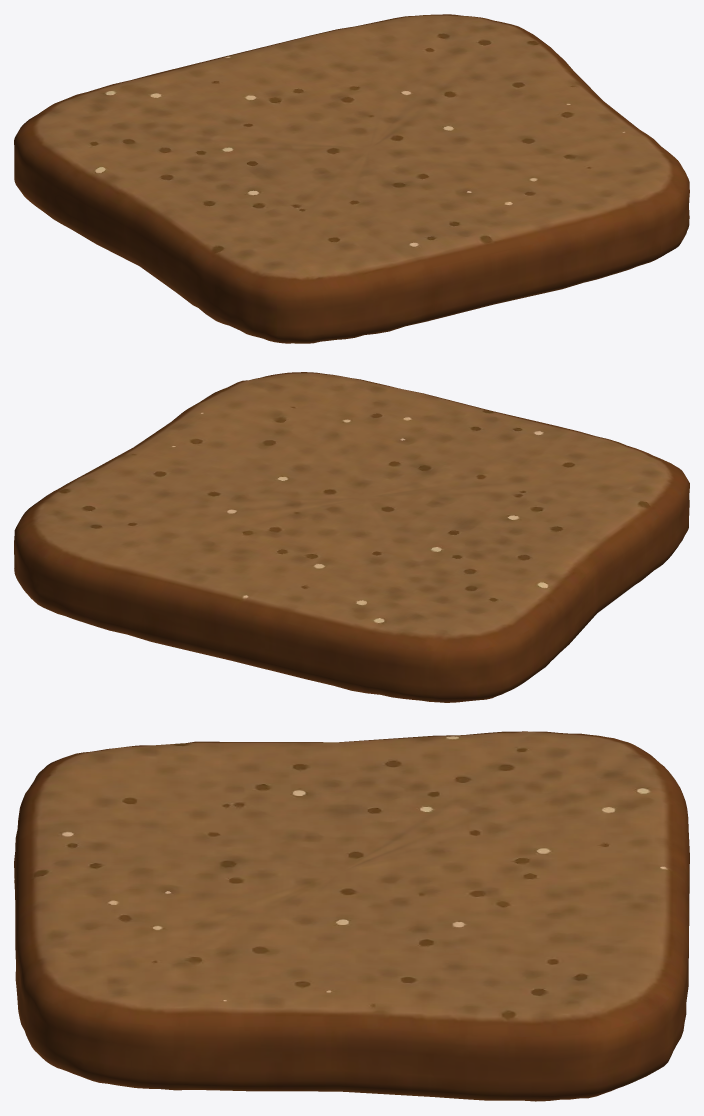
Rendered from bread_multi_top.glb.
3 views of the same model, one above another, from view 1: azimuth 30°, elevation 25°; view 2: azimuth 150°, elevation 25°; view 3: azimuth 270°, elevation 25° (orthographic). The views are drawn at different scales.
Parts seen in each view (by area): view 1: EX_Bread_multi_top; view 2: EX_Bread_multi_top; view 3: EX_Bread_multi_top.
Part boxes in pixels (x1,y1,x2,y2): EX_Bread_multi_top: (14,14,689,343); EX_Bread_multi_top: (14,372,689,702); EX_Bread_multi_top: (14,731,689,1101).
Size of the model in its own units: 0.1074 by 0.0145 by 0.1001.
Materials: 1 (1 with a texture image).
